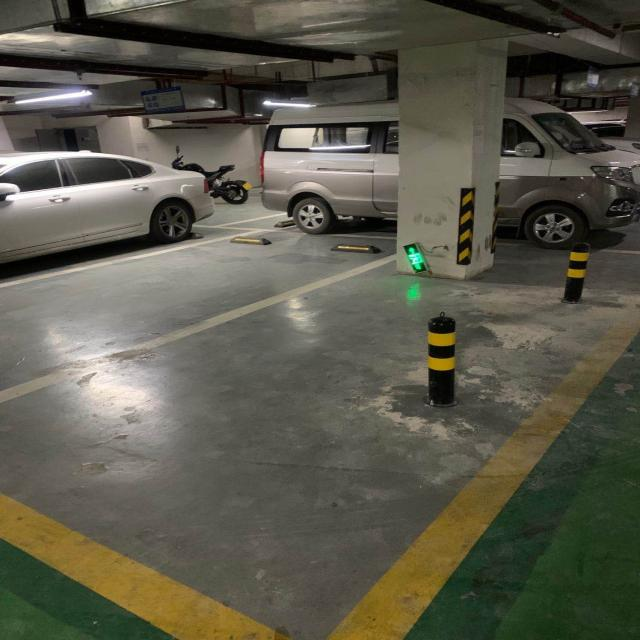car: (258, 98, 640, 250), (0, 148, 215, 266)
motorbike: (168, 145, 252, 204)
warning_column: (423, 311, 461, 408), (559, 240, 592, 303)
